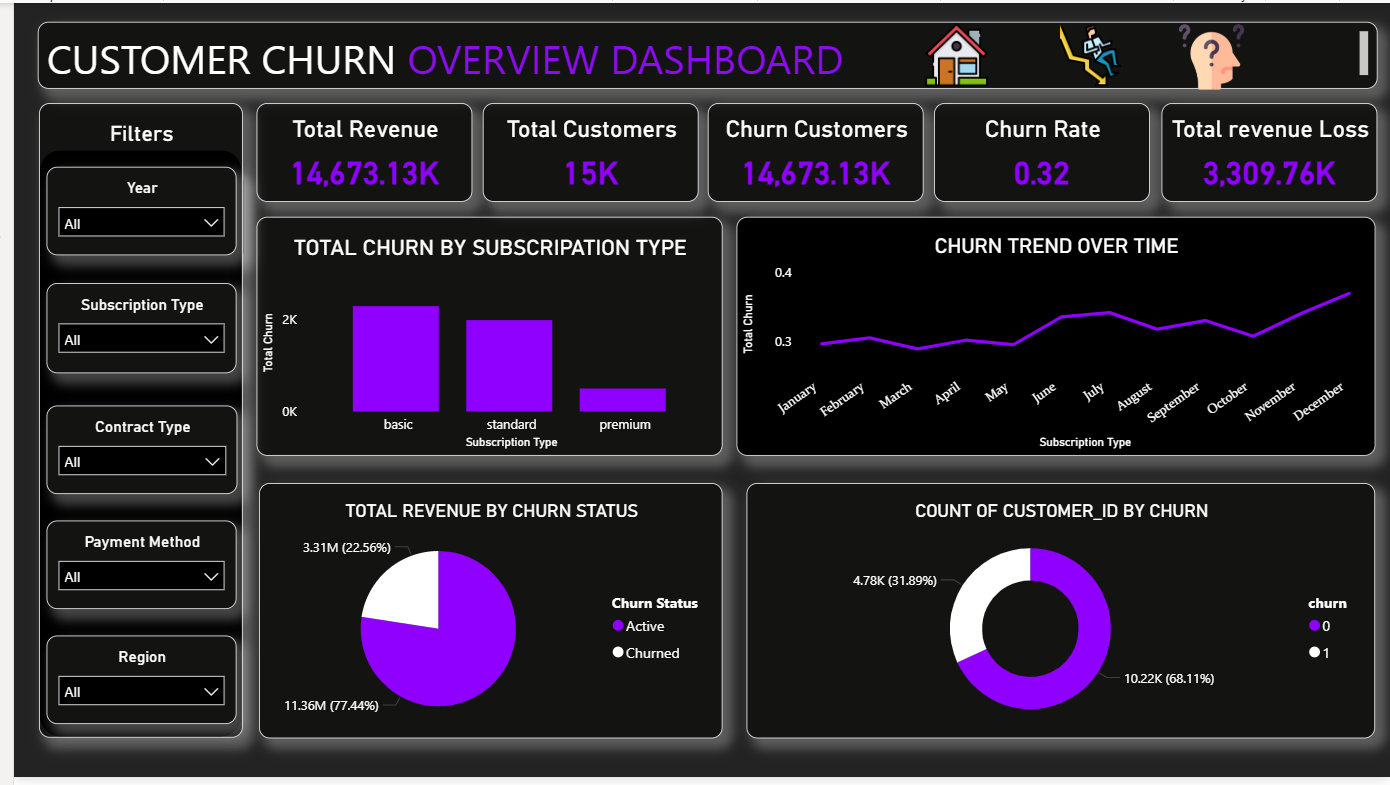

This screenshot's page, from the dashboard's own definition file:
{"tool":"powerbi","page":{"name":"over view","canvas":[1280,720],"ordinal":0},"visuals":[{"type":"card","title":"Total Revenue","fields":{"Values":["churn churndata.total revenue"]},"box":[225.6,93,201.2,91.9],"z":0},{"type":"columnChart","title":"Total Churn By Subscription Type","fields":{"Category":["churn churndata.subscription_type"],"Y":["churn churndata.total churn"]},"box":[225.6,198.8,433.7,222.1],"z":1000},{"type":"slicer","title":"Subscription Type","fields":{"Values":["churn churndata.subscription_type"]},"box":[53.6,157.4,159.7,83.7],"z":2000},{"type":"textbox","box":[22.1,17.4,1246.5,62.8],"z":3000,"group":"g1"},{"type":"shape","title":"Filters","box":[23.3,93,189.5,590.7],"z":4000},{"type":"slicer","title":"Subscription Type","fields":{"Values":["churn churndata.subscription_type"]},"box":[30.2,260.5,176.7,83.7],"z":5000},{"type":"slicer","title":"Year","fields":{"Values":["churn churndata.YEAR"]},"box":[30.2,152.3,176.7,82.6],"z":6000},{"type":"slicer","title":"Contract Type","fields":{"Values":["churn churndata.contract_type"]},"box":[30.2,374.4,177.9,82.6],"z":7000},{"type":"slicer","title":"Payment Method","fields":{"Values":["churn churndata.payment_method"]},"box":[30.2,481.4,176.7,82.6],"z":8000},{"type":"slicer","title":"Region","fields":{"Values":["churn churndata.region"]},"box":[30.2,588.4,176.7,82.6],"z":9000},{"type":"card","title":"Total Customers","fields":{"Values":["churn churndata.total customers"]},"box":[436,93,201.2,91.9],"z":10000},{"type":"card","title":"Churn Customers","fields":{"Values":["churn churndata.total revenue"]},"box":[645.4,93,201.2,91.9],"z":11000},{"type":"card","title":"Churn Rate","fields":{"Values":["churn churndata.churn rate"]},"box":[855.8,93,201.2,91.9],"z":12000},{"type":"card","title":"Total Revenue","fields":{"Values":["churn churndata.loss revenue"]},"box":[1067.4,93,201.2,91.9],"z":13000},{"type":"lineChart","title":"Total Churn By Subscription Type","fields":{"Y":["churn churndata.churn rate"],"Category":["churn churndata.signup_date.Variation.Date Hierarchy.Year","churn churndata.signup_date.Variation.Date Hierarchy.Month"]},"box":[683.4,205.8,585.9,215.4],"z":14000},{"type":"pieChart","title":"Total Churn By Subscription Type","fields":{"Category":["churn churndata.Churn Status"],"Y":["churn churndata.total revenue"]},"box":[227.9,446.5,431.4,237.2],"z":15000},{"type":"donutChart","title":"Total Churn By Subscription Type","fields":{"Category":["churn churndata.churn"],"Y":["CountNonNull(churn churndata.customer_id)"]},"box":[681.4,446.5,584.9,237.2],"z":16000},{"type":"image","box":[836.7,18.8,78.9,58.9],"z":17000,"group":"g1"},{"type":"image","box":[956.7,20,87.8,57.8],"z":18000,"group":"g1"},{"type":"image","box":[1075.6,20,76.7,61.1],"z":19000,"group":"g1"},{"type":"group","id":"g1","title":"Group 1","box":[22.1,17.4,1246.5,63.7],"z":19001}]}

Visuals, with their boxes in screenshot pixels (x1, y1, x2, y2), scaled from the page's 1280x720 canvas onto the 1390x785 screenshot:
"Total Revenue" card: [x1=245, y1=101, x2=463, y2=202]
"Total Churn By Subscription Type" columnChart: [x1=245, y1=217, x2=716, y2=459]
"Subscription Type" slicer: [x1=58, y1=172, x2=232, y2=263]
textbox: [x1=24, y1=19, x2=1378, y2=87]
"Filters" shape: [x1=25, y1=101, x2=231, y2=745]
"Subscription Type" slicer: [x1=33, y1=284, x2=225, y2=375]
"Year" slicer: [x1=33, y1=166, x2=225, y2=256]
"Contract Type" slicer: [x1=33, y1=408, x2=226, y2=498]
"Payment Method" slicer: [x1=33, y1=525, x2=225, y2=615]
"Region" slicer: [x1=33, y1=642, x2=225, y2=732]
"Total Customers" card: [x1=473, y1=101, x2=692, y2=202]
"Churn Customers" card: [x1=701, y1=101, x2=919, y2=202]
"Churn Rate" card: [x1=929, y1=101, x2=1148, y2=202]
"Total Revenue" card: [x1=1159, y1=101, x2=1378, y2=202]
"Total Churn By Subscription Type" lineChart: [x1=742, y1=224, x2=1378, y2=459]
"Total Churn By Subscription Type" pieChart: [x1=247, y1=487, x2=716, y2=745]
"Total Churn By Subscription Type" donutChart: [x1=740, y1=487, x2=1375, y2=745]
image: [x1=909, y1=20, x2=994, y2=85]
image: [x1=1039, y1=22, x2=1134, y2=85]
image: [x1=1168, y1=22, x2=1251, y2=88]
"Group 1" group: [x1=24, y1=19, x2=1378, y2=88]
